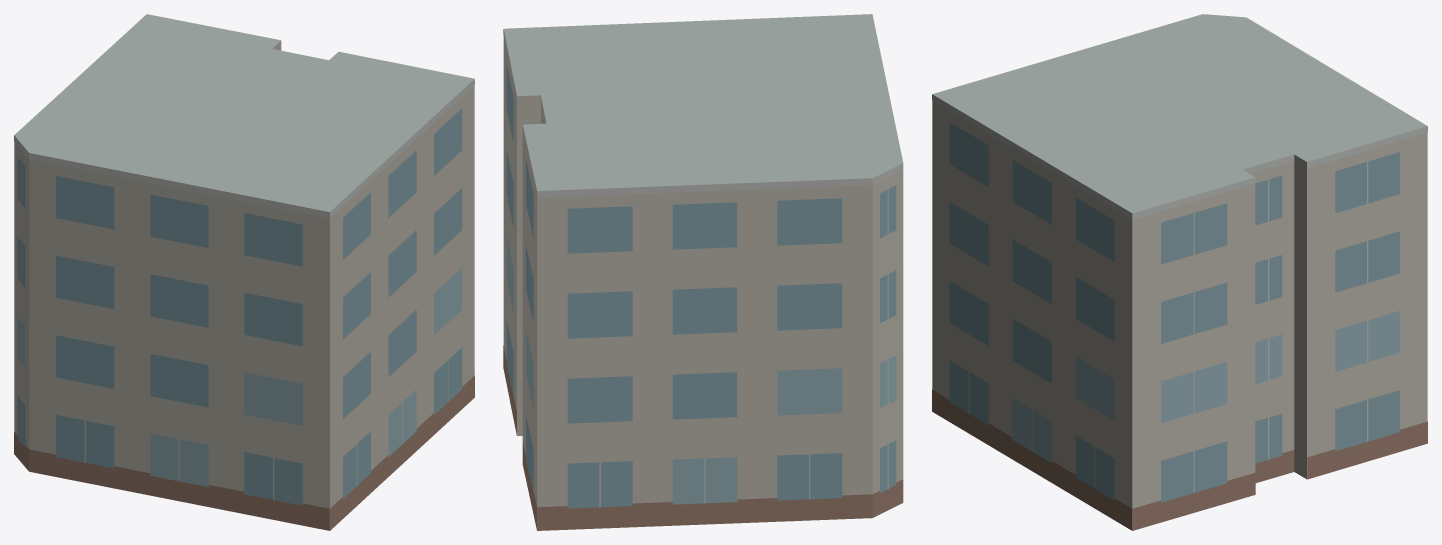
Rendered from survey-upis-32625124.glb.
3 views of the same model, side by side, from view 1: azimuth 30°, elevation 25°; view 2: azimuth 150°, elevation 25°; view 3: azimuth 270°, elevation 25° (orthographic). The views are drawn at different scales.
Parts seen in each view (by area): view 1: survey-upis-32625124.tmp; view 2: survey-upis-32625124.tmp; view 3: survey-upis-32625124.tmp.
Part boxes in pixels (bbox=[...]): survey-upis-32625124.tmp: bbox=[14, 14, 474, 530]; survey-upis-32625124.tmp: bbox=[503, 14, 903, 530]; survey-upis-32625124.tmp: bbox=[932, 14, 1427, 530].
Bounding box in the file's own units: 16.58 × 12.3 × 17.41.
